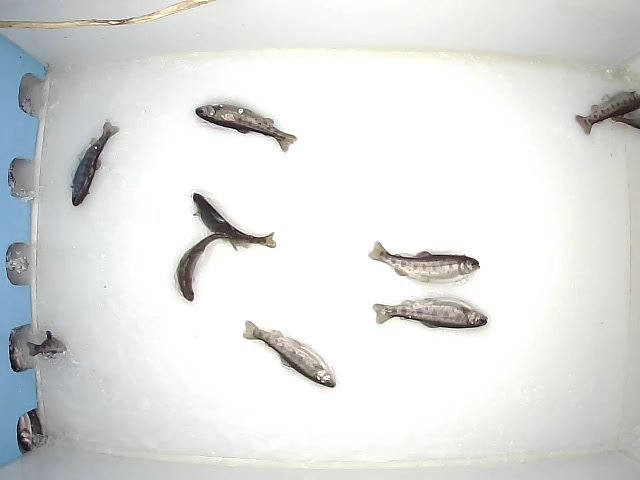fish: (240, 317, 337, 391), (193, 102, 298, 154), (365, 240, 481, 285), (192, 191, 276, 252), (173, 228, 240, 303), (68, 118, 123, 208), (372, 296, 489, 329), (573, 87, 640, 138)
